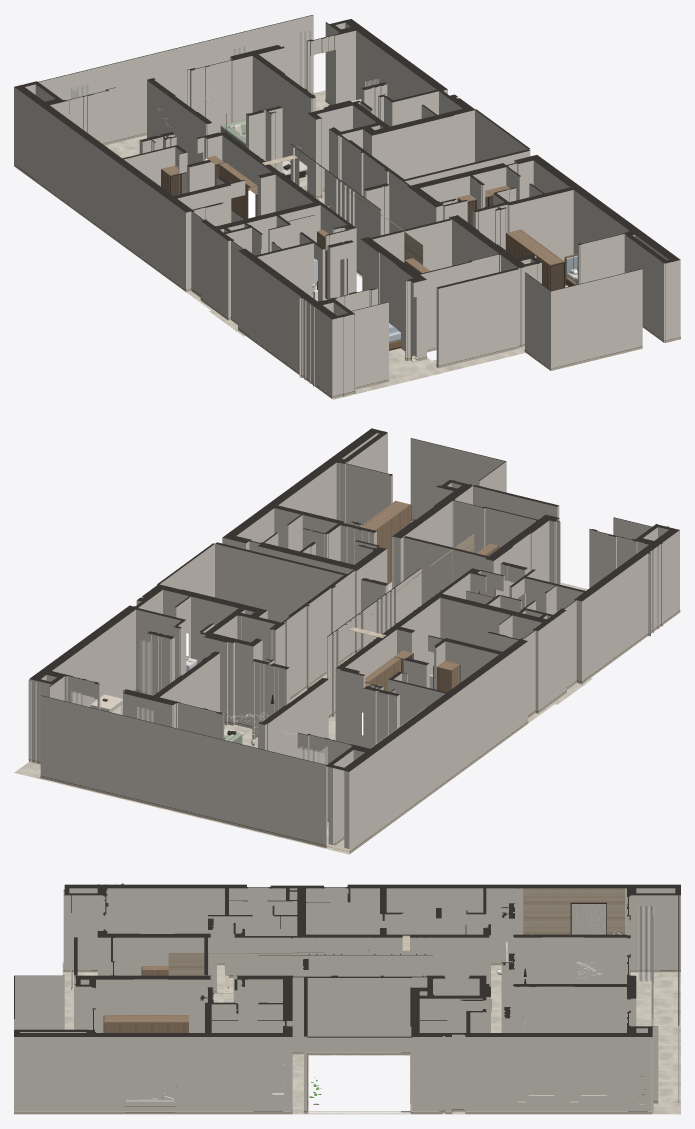
Rendered from ff_house_v9.glb.
3 views of the same model, one above another, from view 1: azimuth 30°, elevation 25°; view 2: azimuth 150°, elevation 25°; view 3: azimuth 270°, elevation 25° (orthographic). The views are drawn at different scales.
Visible parts, largest first — view 1: MeshStandardMaterial_14, MeshStandardMaterial_15, MeshStandardMaterial_7, MeshStandardMaterial_1, MeshStandardMaterial_16, MeshStandardMaterial_104, MeshStandardMaterial_87; view 2: MeshStandardMaterial_14, MeshStandardMaterial_15, MeshStandardMaterial_7, MeshStandardMaterial_16, MeshStandardMaterial_104, MeshStandardMaterial_1; view 3: MeshStandardMaterial_14, MeshStandardMaterial_15, MeshStandardMaterial_1, MeshStandardMaterial_5, MeshStandardMaterial_16, MeshStandardMaterial_7, MeshStandardMaterial_104, MeshStandardMaterial_91.
Boxes of the visible parts, <box> form: MeshStandardMaterial_14: <box>14,15,680,396</box>; MeshStandardMaterial_15: <box>14,15,680,319</box>; MeshStandardMaterial_7: <box>161,155,564,299</box>; MeshStandardMaterial_1: <box>105,90,568,399</box>; MeshStandardMaterial_16: <box>14,92,680,398</box>; MeshStandardMaterial_104: <box>70,30,378,98</box>; MeshStandardMaterial_87: <box>170,165,564,294</box>; MeshStandardMaterial_14: <box>29,432,679,853</box>; MeshStandardMaterial_15: <box>29,428,679,771</box>; MeshStandardMaterial_7: <box>363,500,498,692</box>; MeshStandardMaterial_16: <box>29,518,680,853</box>; MeshStandardMaterial_104: <box>28,639,327,827</box>; MeshStandardMaterial_1: <box>14,582,680,854</box>; MeshStandardMaterial_14: <box>14,887,680,1111</box>; MeshStandardMaterial_15: <box>14,883,680,1037</box>; MeshStandardMaterial_1: <box>62,961,680,1114</box>; MeshStandardMaterial_5: <box>168,888,624,975</box>; MeshStandardMaterial_16: <box>14,963,680,1114</box>; MeshStandardMaterial_7: <box>104,932,402,1032</box>; MeshStandardMaterial_104: <box>522,905,654,1113</box>; MeshStandardMaterial_91: <box>571,904,606,934</box>.
Size of the model in its own units: 12.9 by 3.02 by 23.57.
98 materials, 16 textured.
